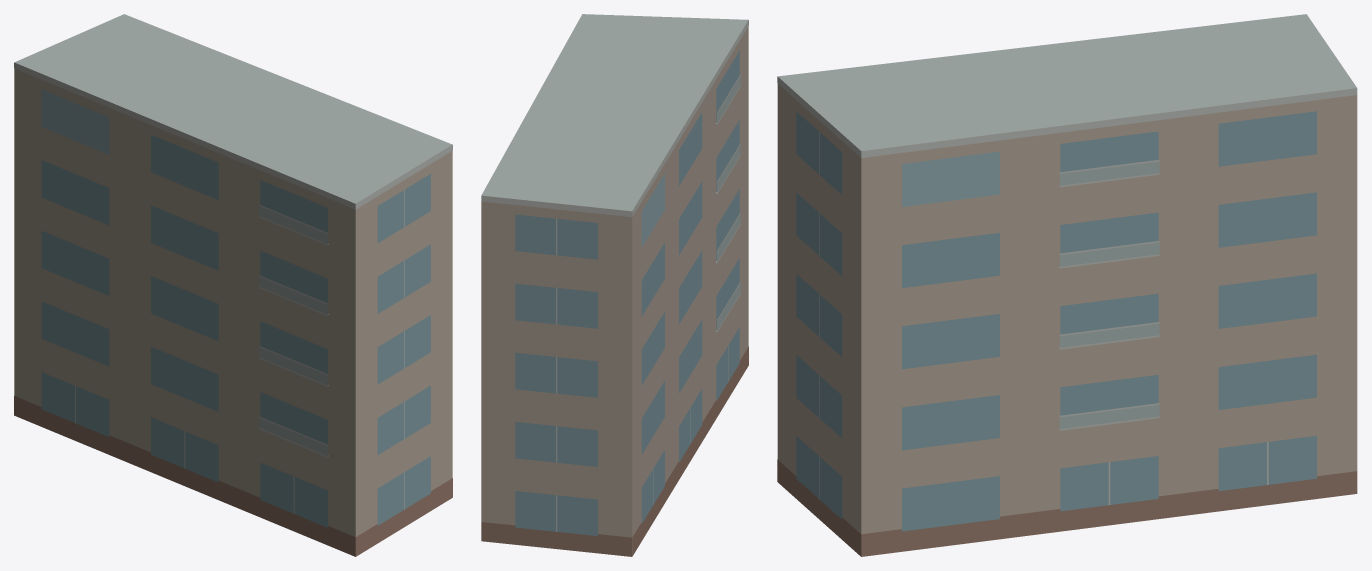
Rendered from survey-upis-32928766.glb.
The picture shows the model from 3 angles, left to right: view 1: azimuth 30°, elevation 25°; view 2: azimuth 150°, elevation 25°; view 3: azimuth 270°, elevation 25°; orthographic projection. The views are drawn at different scales.
Parts seen in each view (by area): view 1: survey-upis-32928766.tmp; view 2: survey-upis-32928766.tmp; view 3: survey-upis-32928766.tmp.
Boxes of the visible parts, x1,y1,x2,y2 form: survey-upis-32928766.tmp: (14,14,452,556); survey-upis-32928766.tmp: (481,14,748,556); survey-upis-32928766.tmp: (777,14,1357,556).
Size of the model in its own units: 10.46 by 14.4 by 18.67.
